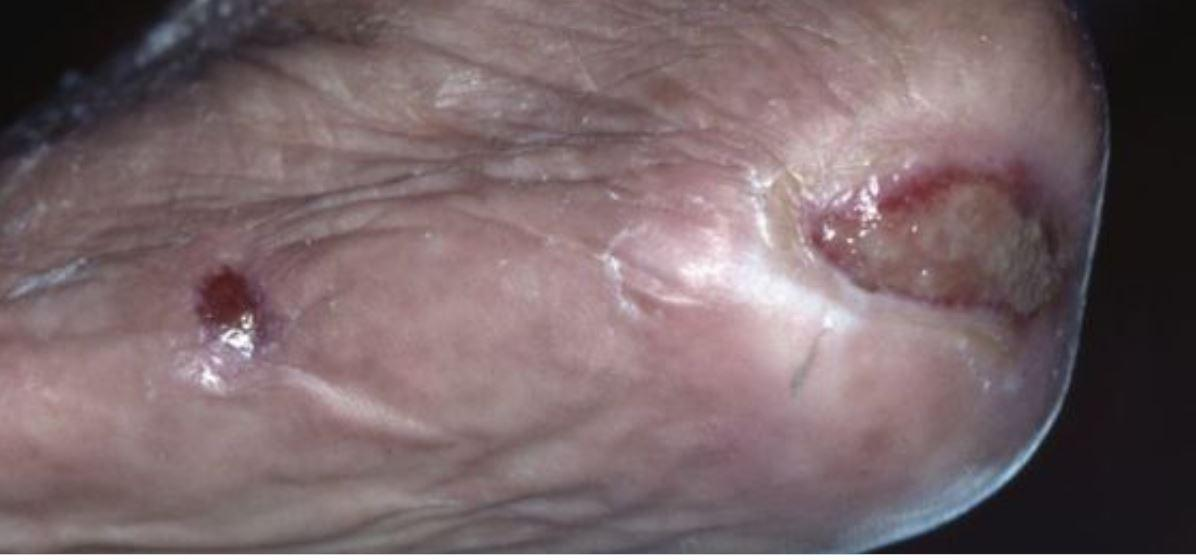Stage2: (791, 109, 1095, 363)
